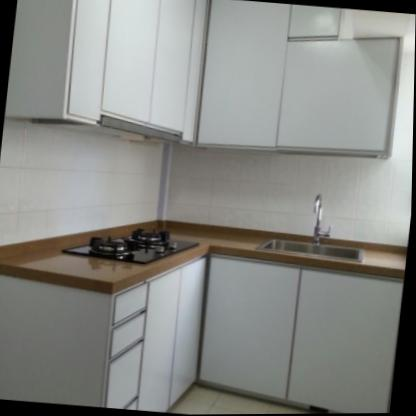Cabinet: (0, 233, 405, 416), (3, 0, 211, 153)
